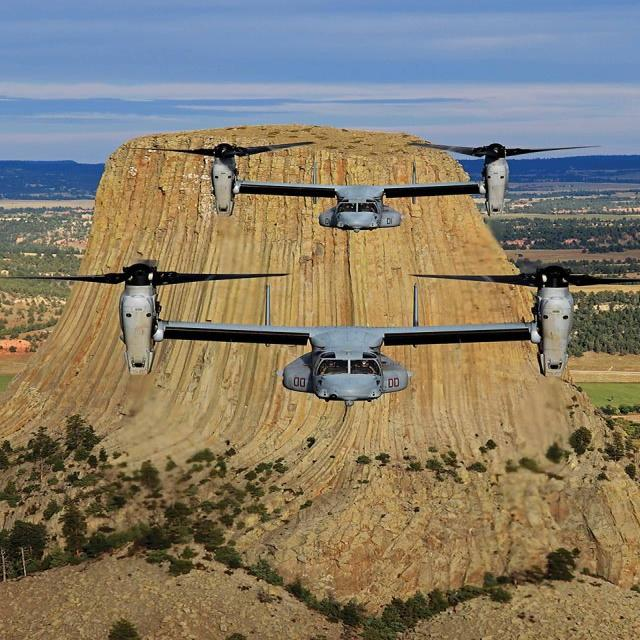MIL_Plane: (1, 262, 640, 406), (123, 140, 601, 234)
